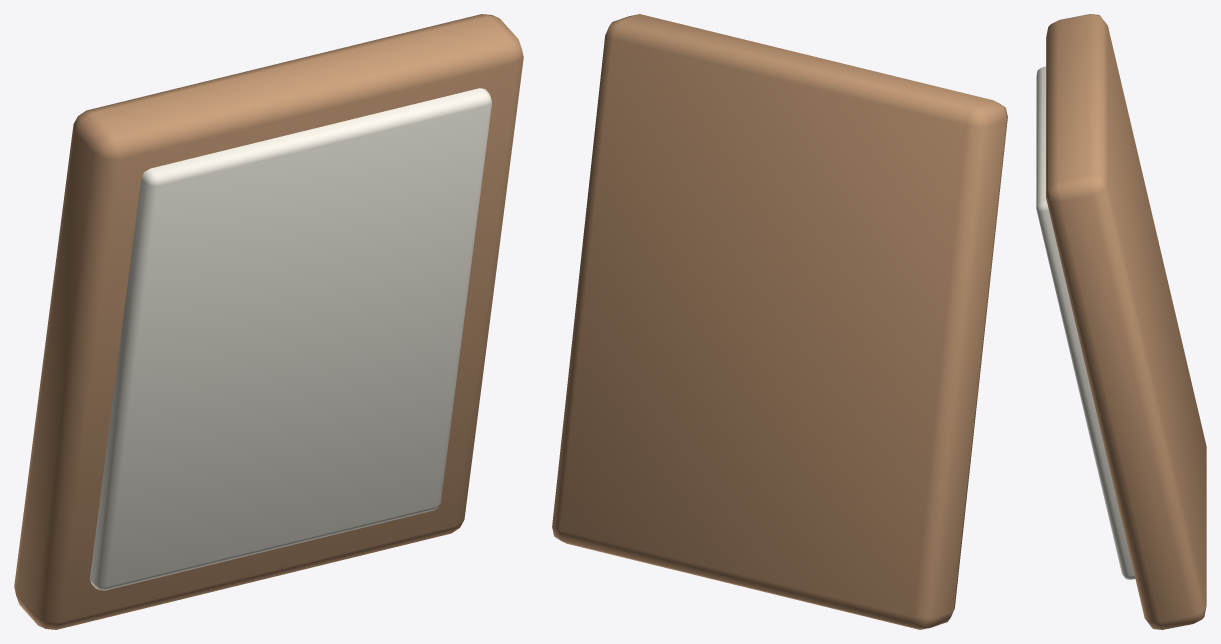
Rendered from Decor_PosterSign.fbx.
3 views of the same model, side by side, from view 1: azimuth 30°, elevation 25°; view 2: azimuth 150°, elevation 25°; view 3: azimuth 270°, elevation 25° (orthographic). The views are drawn at different scales.
Visible parts, largest first — view 1: Sign_Canvas, Sign_Frame; view 2: Sign_Frame; view 3: Sign_Frame, Sign_Canvas.
Part boxes in pixels (x1,y1,x2,y2): Sign_Canvas: (90, 88, 491, 590); Sign_Frame: (14, 14, 523, 629); Sign_Frame: (552, 14, 1007, 629); Sign_Frame: (1046, 14, 1206, 629); Sign_Canvas: (1036, 66, 1135, 579).
Bounding box in the file's own units: 5.2 × 6.34 × 2.15.
